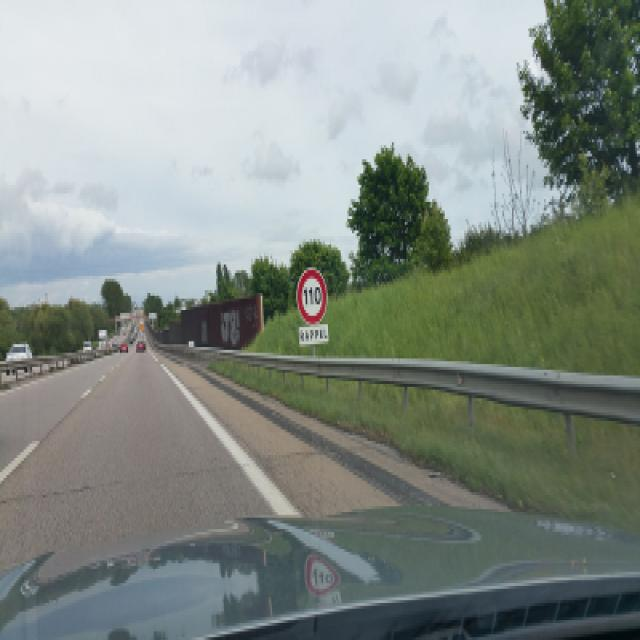speed_110: (296, 267, 328, 327)
